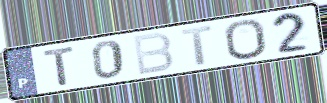0: (89, 39, 125, 82)
2: (269, 11, 315, 58)
B: (130, 31, 176, 77)
O: (222, 17, 270, 62)
T: (179, 24, 215, 68), (41, 45, 77, 88)
